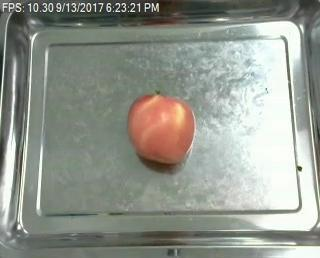apple: (127, 93, 197, 165)
